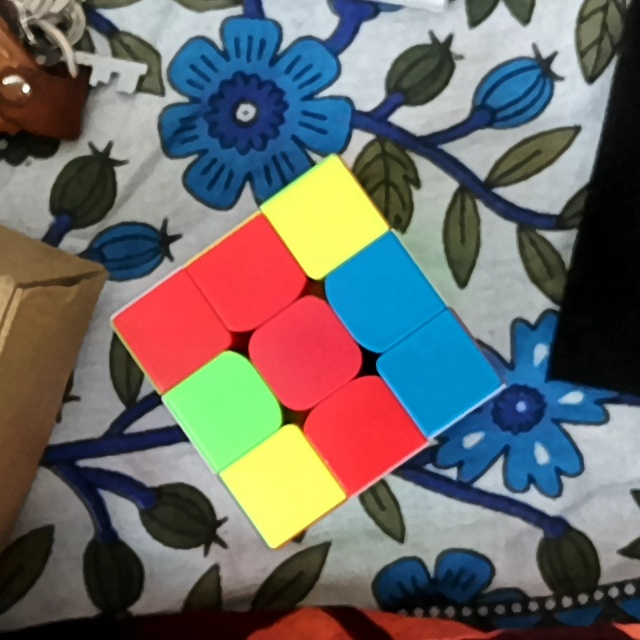tile: (192, 376, 257, 444), (327, 400, 394, 464), (139, 298, 203, 364), (274, 321, 336, 389), (217, 246, 280, 311), (293, 184, 355, 250), (409, 342, 470, 408), (351, 264, 412, 330), (251, 457, 312, 519)
